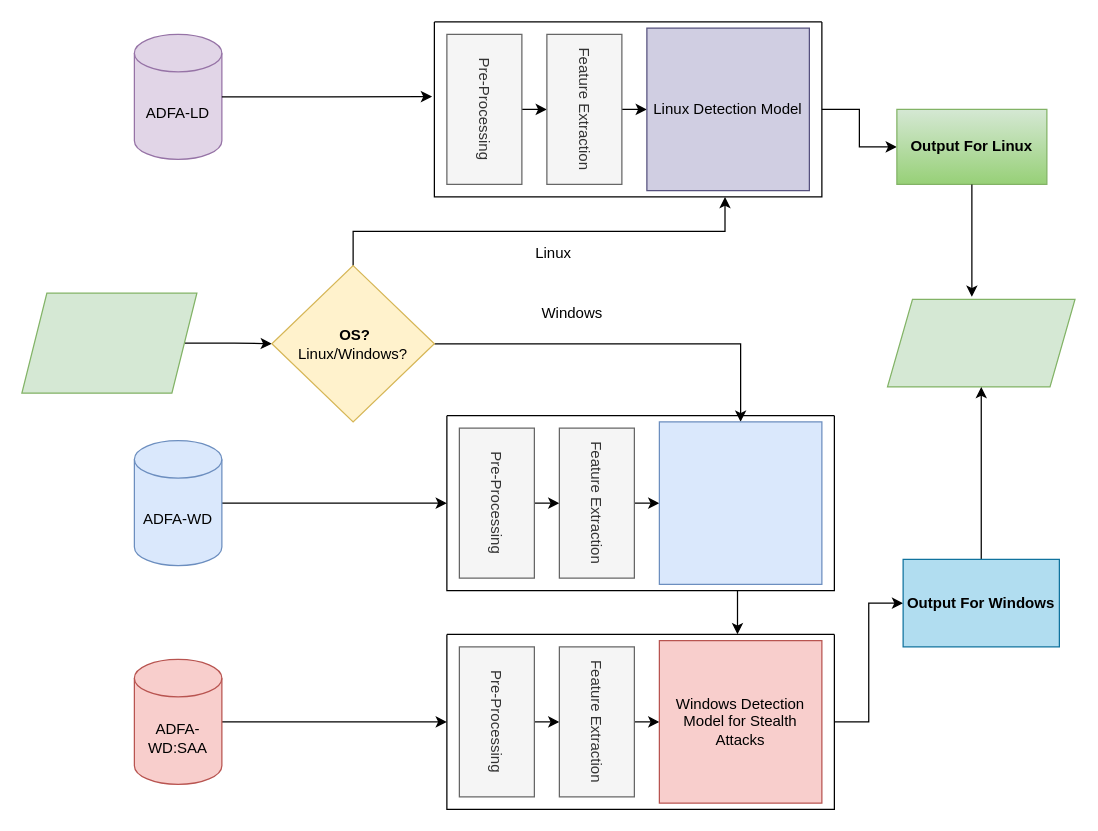
Image size: 1098x831. Some labels were removed from this diagram. Here are the shapes that lost their labels. From the top down, the centre of each, then its label:
At pixel 109 342: "Input: System/DLL Call Sequences".
At pixel 980 342: "Final Output Prediction (Attack/Normal?)".
At pixel 740 502: "Windows Detection Model".
